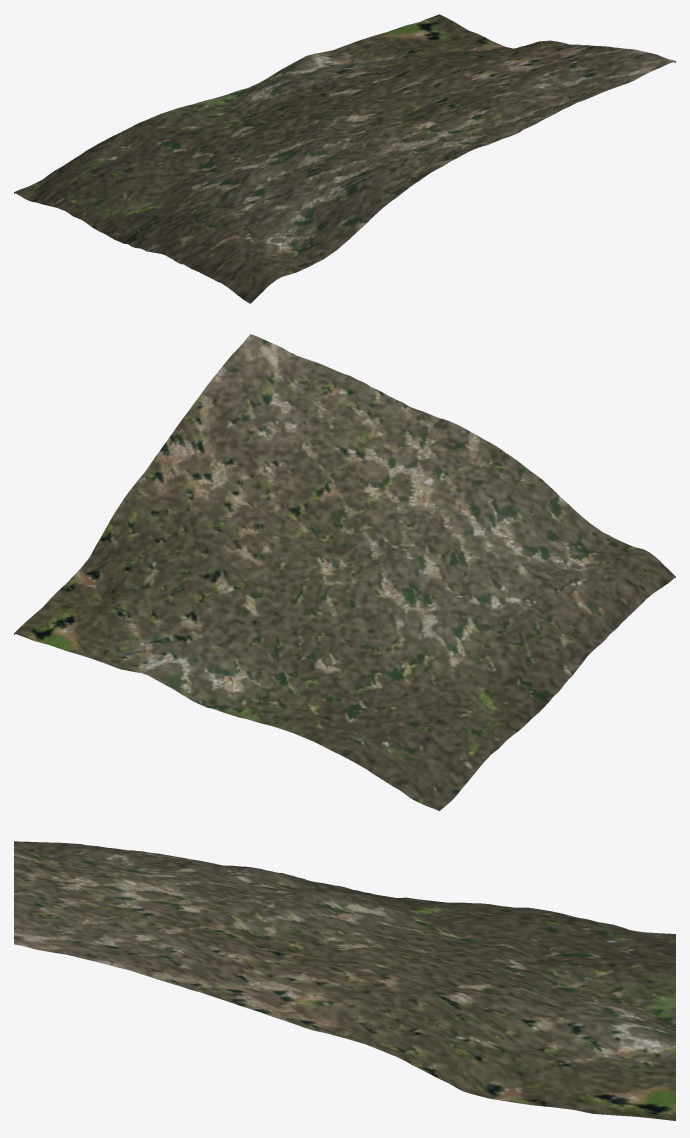
The picture shows the model from 3 angles, top to bottom: view 1: azimuth 30°, elevation 25°; view 2: azimuth 150°, elevation 25°; view 3: azimuth 270°, elevation 25°; orthographic projection. The views are drawn at different scales.
Size of the model in its own units: 250 by 113 by 241.
1 material, 1 textured.
